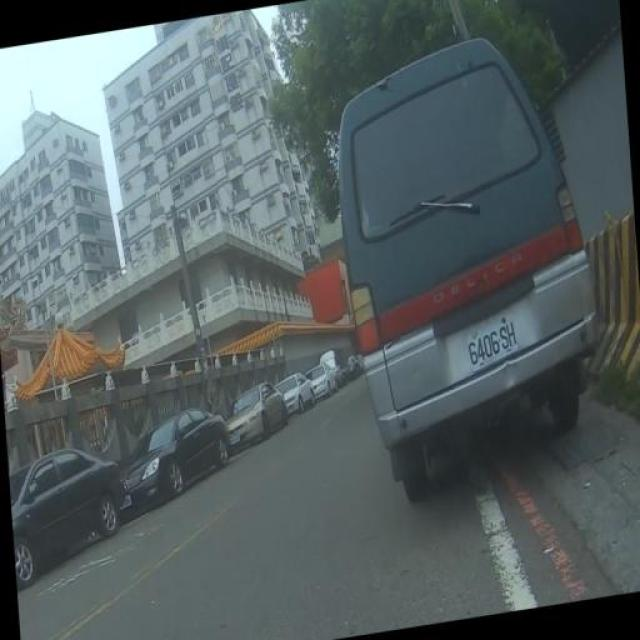Legalparking: (10, 329, 354, 582)
illegalparking: (340, 38, 598, 502)
